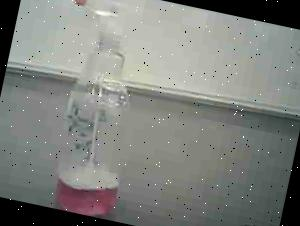hazard: (20, 0, 175, 224)
